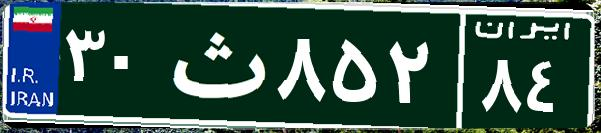0: (110, 28, 158, 105)
2: (385, 28, 445, 110)
3: (57, 26, 110, 107)
4: (525, 38, 570, 115)
5: (330, 28, 385, 110)
8: (273, 28, 330, 110), (475, 38, 525, 113)
ث: (158, 15, 273, 115)
